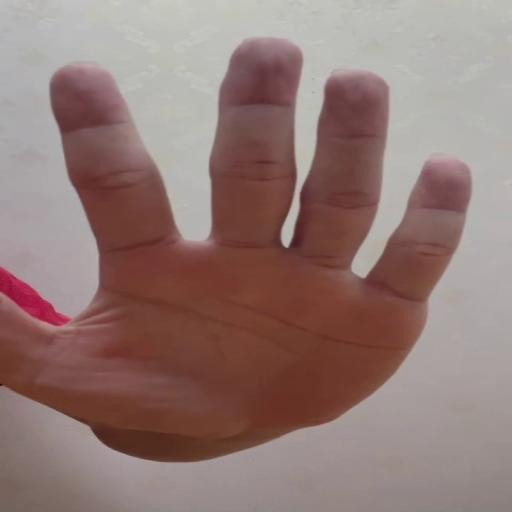open_palm: (4, 33, 474, 436)
